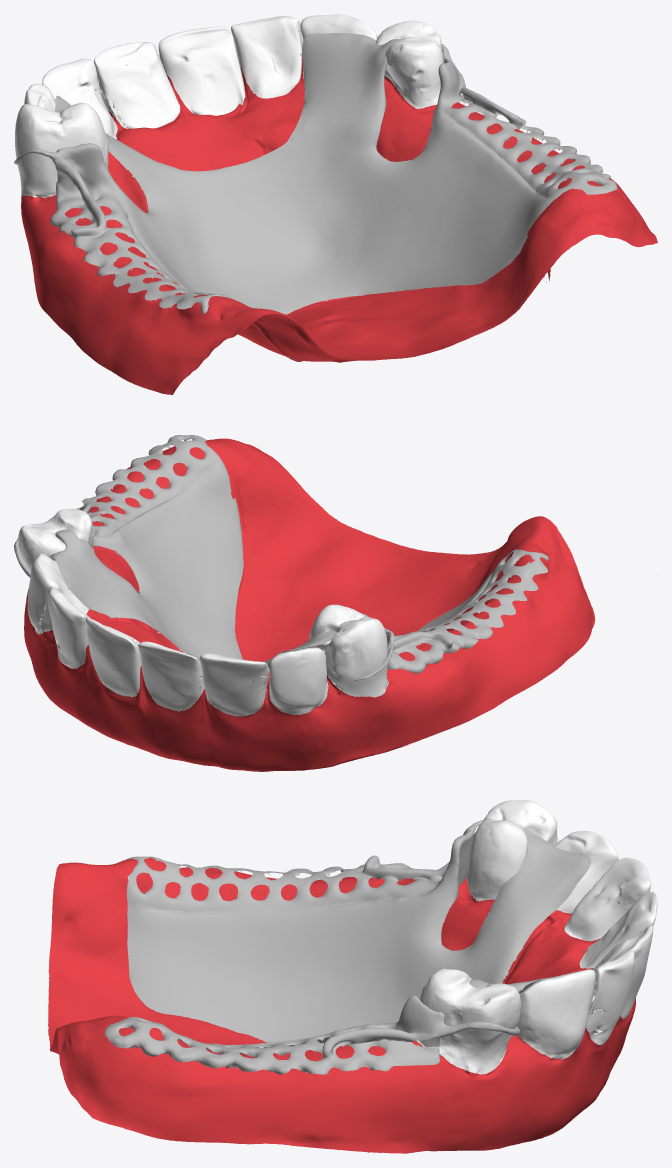
File: 1756915554405-03_cast+teeth-draco.glb
3 views of the same model, one above another, from view 1: azimuth 30°, elevation 25°; view 2: azimuth 150°, elevation 25°; view 3: azimuth 270°, elevation 25° (orthographic). The views are drawn at different scales.
Visible parts, largest first — view 1: teeth, cast; view 2: teeth, cast; view 3: teeth, cast.
Part boxes in pixels (left/top/right/bottom): teeth: left=15, top=14, right=657, bottom=406; cast: left=14, top=33, right=617, bottom=360; teeth: left=18, top=438, right=595, bottom=771; cast: left=14, top=435, right=548, bottom=680; teeth: left=48, top=800, right=657, bottom=1153; cast: left=104, top=820, right=591, bottom=1074.
Bounding box in the file's own units: 9.79 × 3.35 × 9.82.
